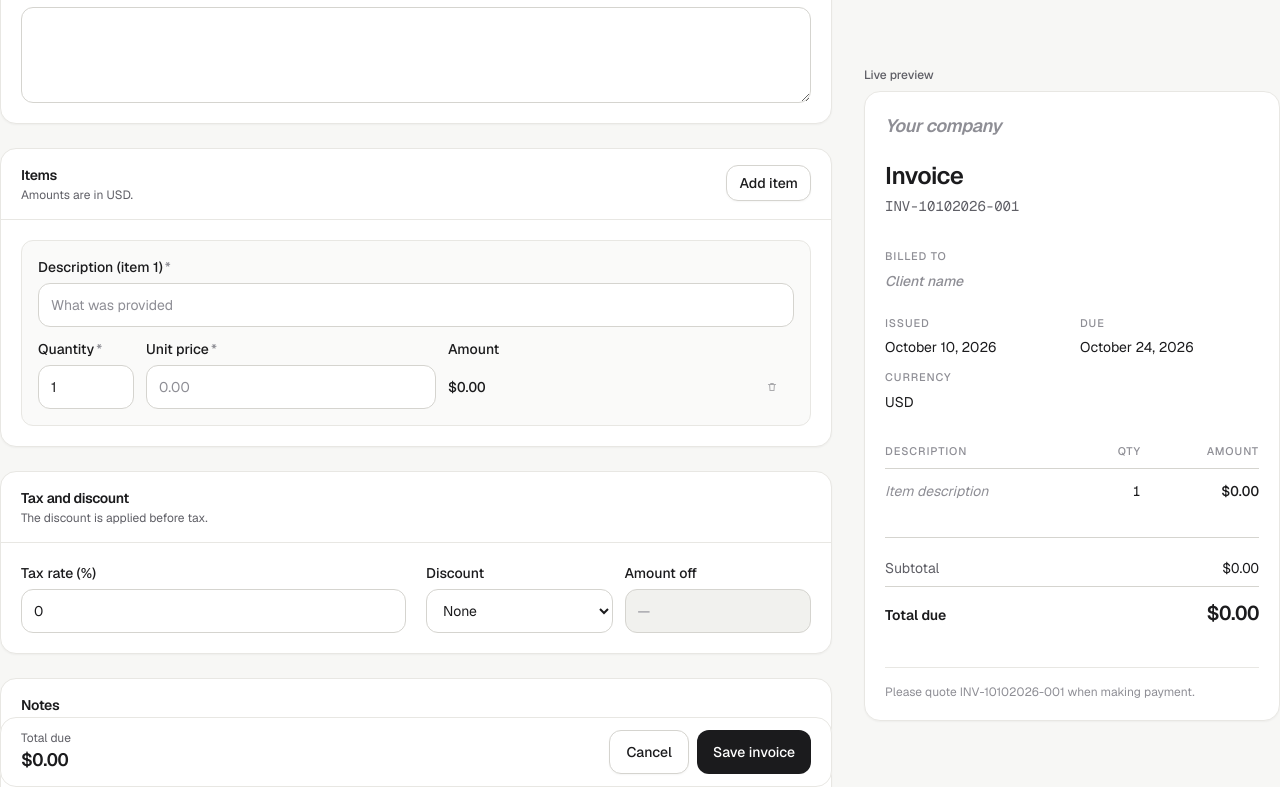
it: InvoiceForm: validation › explains a price with too many decimals for the currency
(page scrolled)
Type "10.999" into the field labelled "Unit price".
click(291, 387); type("10.999")  # box [146, 365, 436, 409]
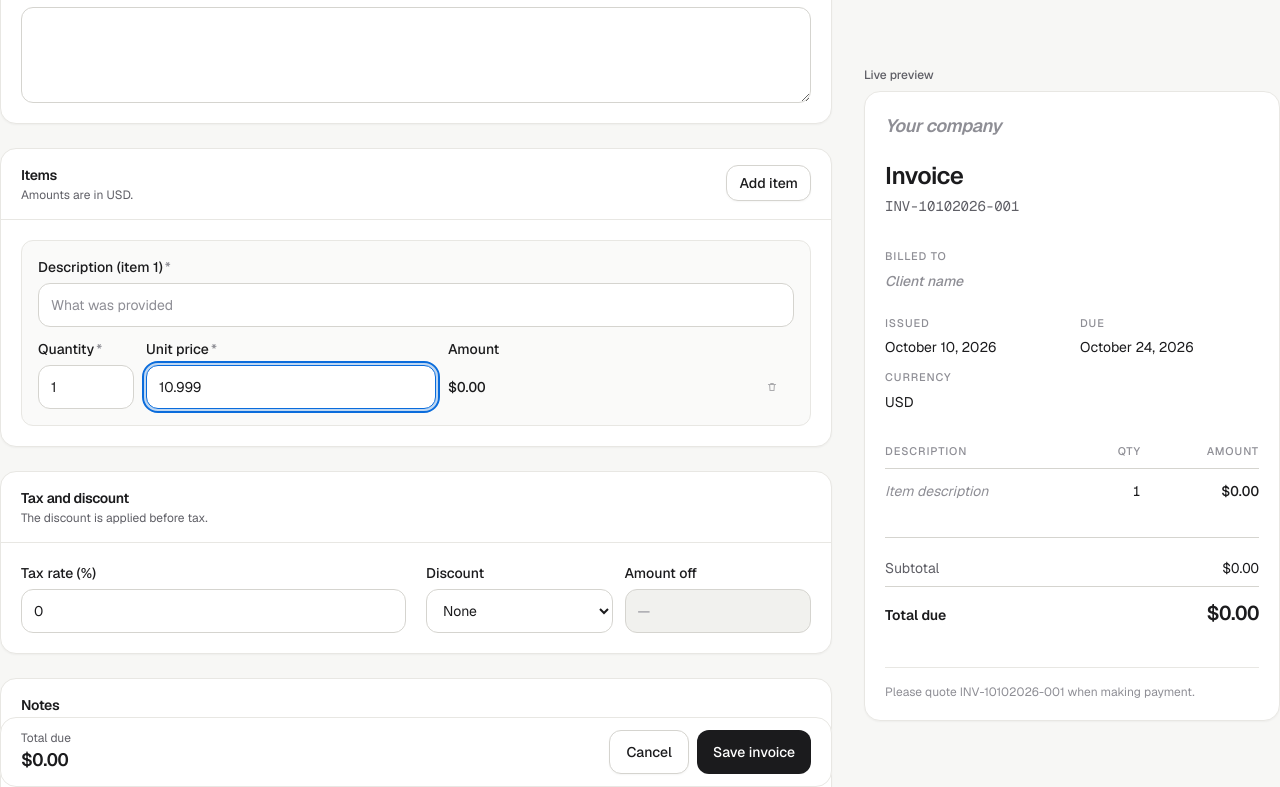
Press Tab
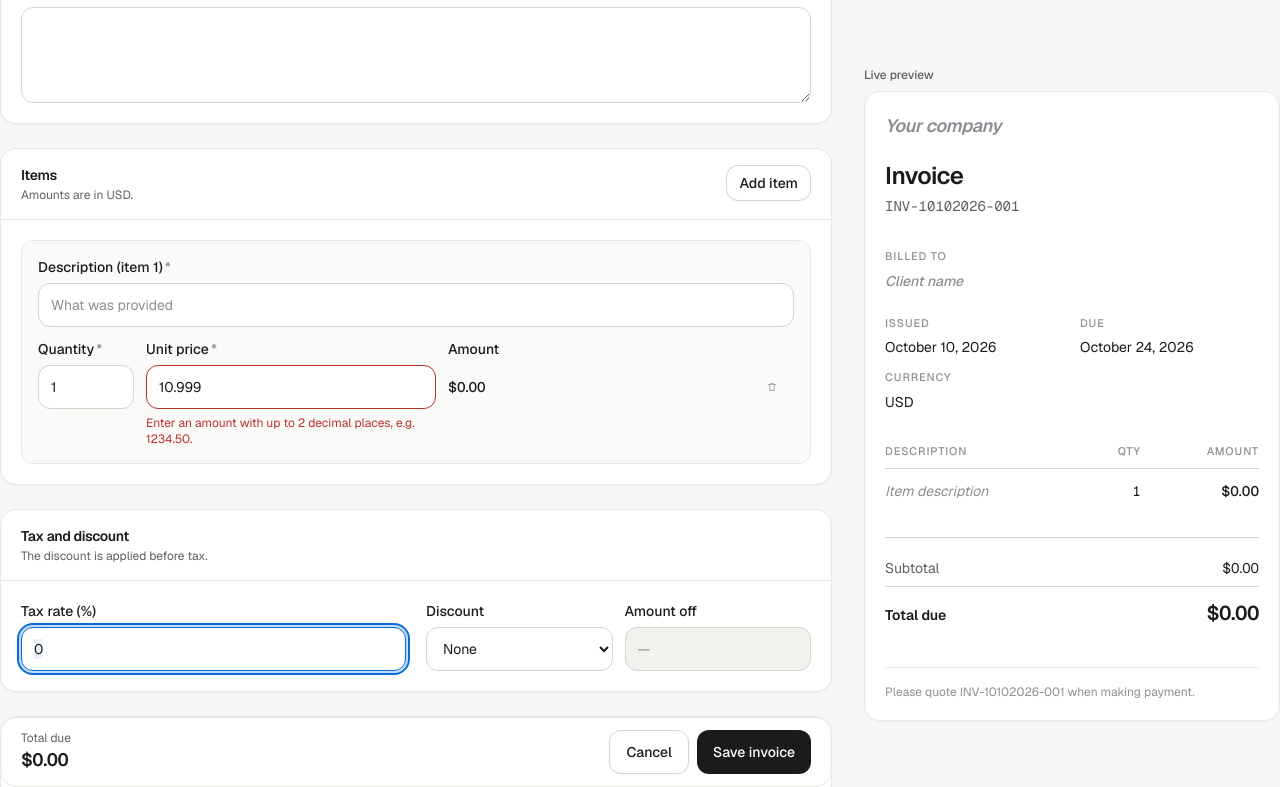
Expected: the text "Enter an amount with up to 2 decimal places, e.g. 1234.50." is shown, [146, 415, 436, 447]
